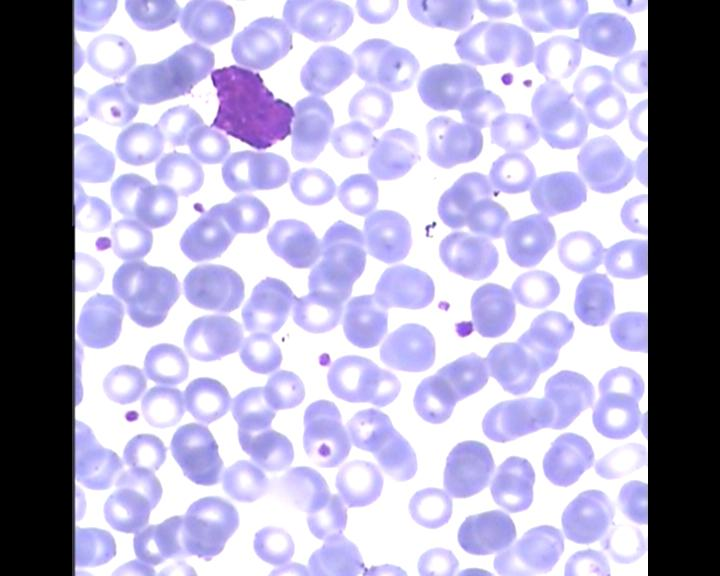baso: (196, 62, 299, 153)
